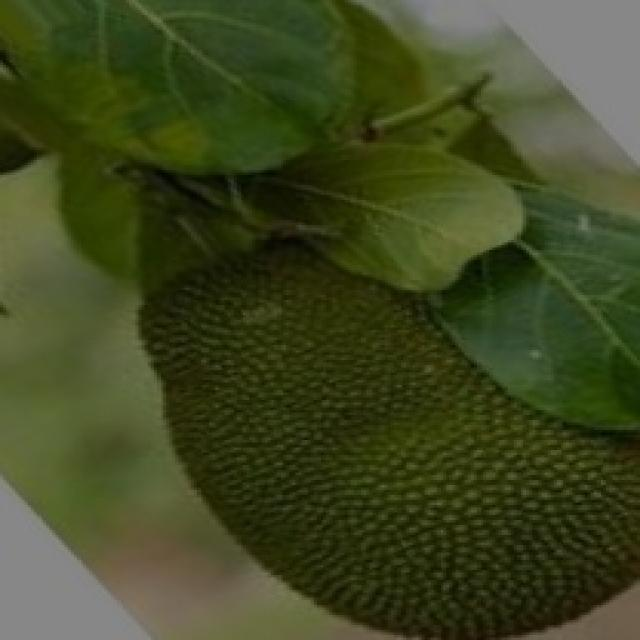Fruit: (252, 230, 640, 640)
